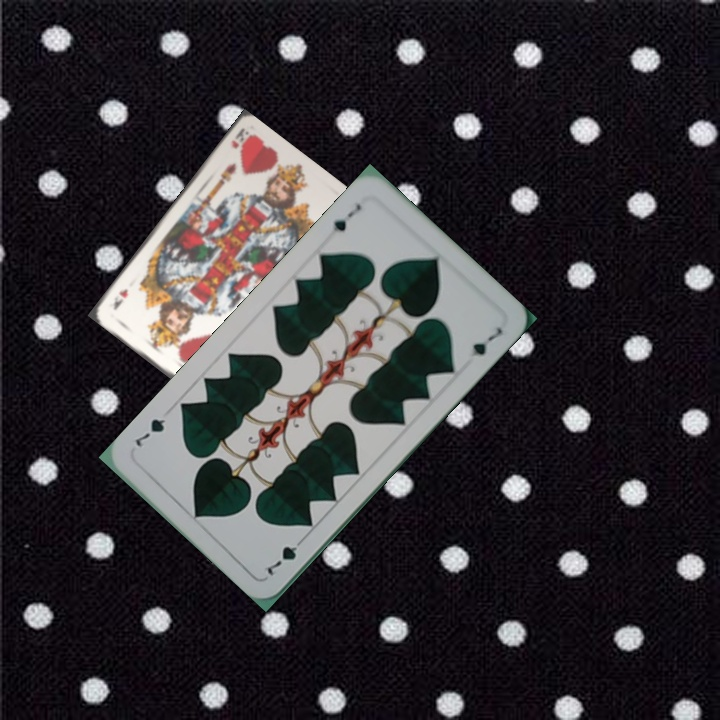G7: (260, 532, 308, 579), (329, 199, 364, 235)
HK: (227, 125, 252, 151)
